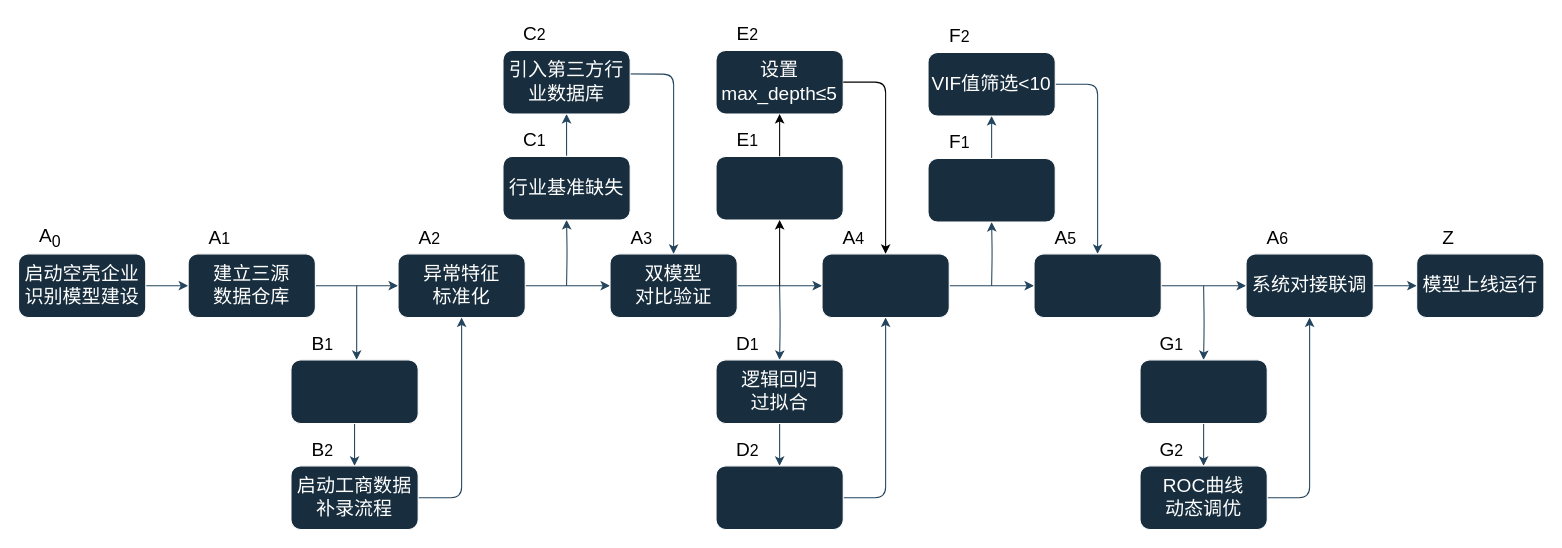
This 1562x548 diagram has some shape labels left out. The shapes that lost their labels are listed below. From the top down, each one's box as (x1, y1, x2, y2) in pixels, then its label:
(715, 155, 843, 220): 决策树深度 过大
(927, 157, 1055, 222): 特征 共线性干扰
(821, 253, 949, 317): 特征重要性 分析
(1033, 253, 1161, 317): 三级预警机制搭建
(290, 359, 418, 423): 关键特征缺失
(1139, 359, 1267, 423): 阈值设置 不合理
(715, 465, 843, 529): 增加L2正则化处理
